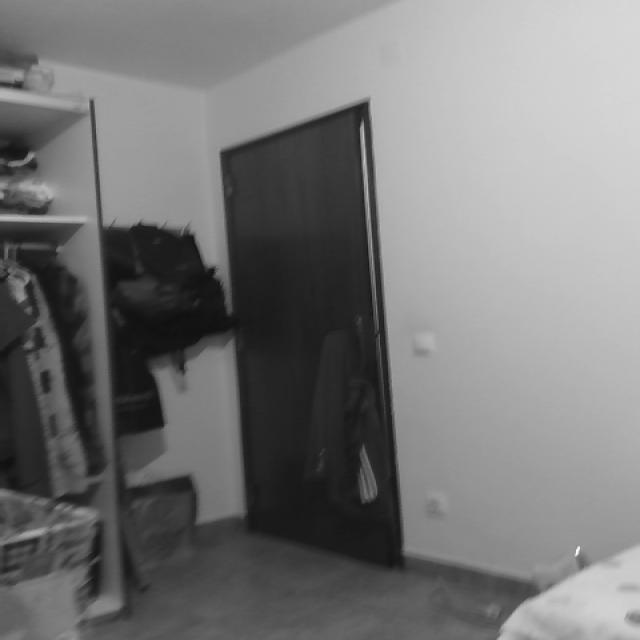door: (217, 88, 406, 559)
